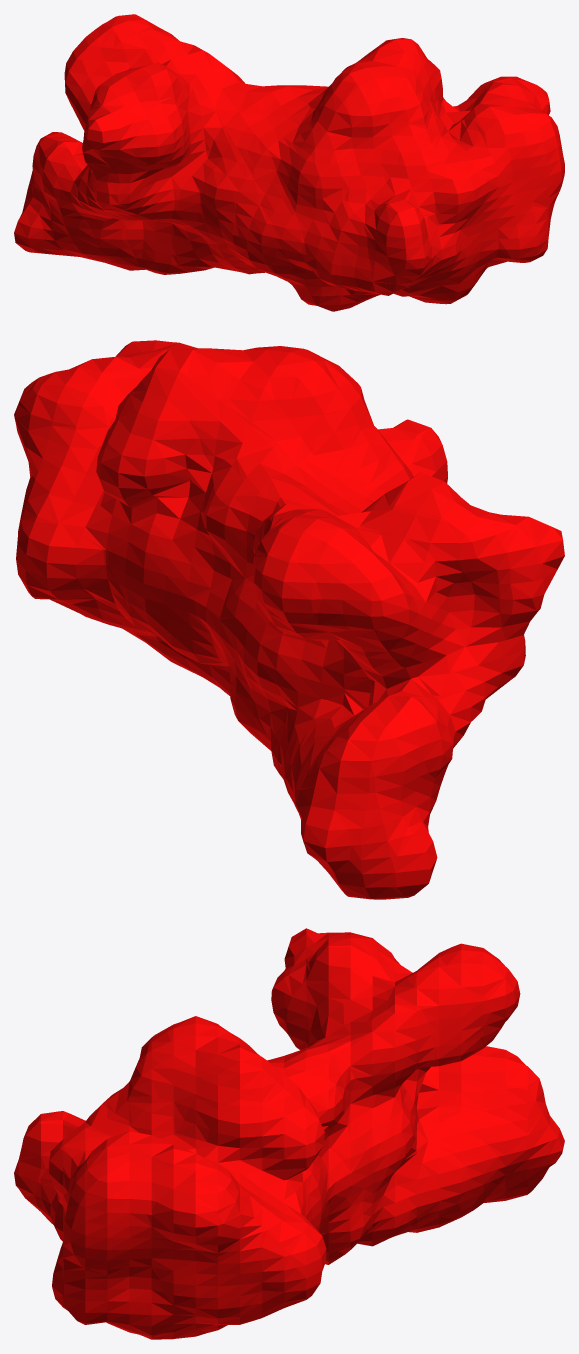
File: ftsI_coarse.dae
The picture shows the model from 3 angles, top to bottom: view 1: azimuth 30°, elevation 25°; view 2: azimuth 150°, elevation 25°; view 3: azimuth 270°, elevation 25°; orthographic projection. The views are drawn at different scales.
Visible parts, largest first — view 1: ftsI; view 2: ftsI; view 3: ftsI.
Boxes of the visible parts, x1,y1,x2,y2 form: ftsI: (14, 14, 564, 311); ftsI: (14, 340, 564, 899); ftsI: (14, 928, 564, 1339).
Size of the model in its own units: 92.31 by 50.94 by 87.53.
